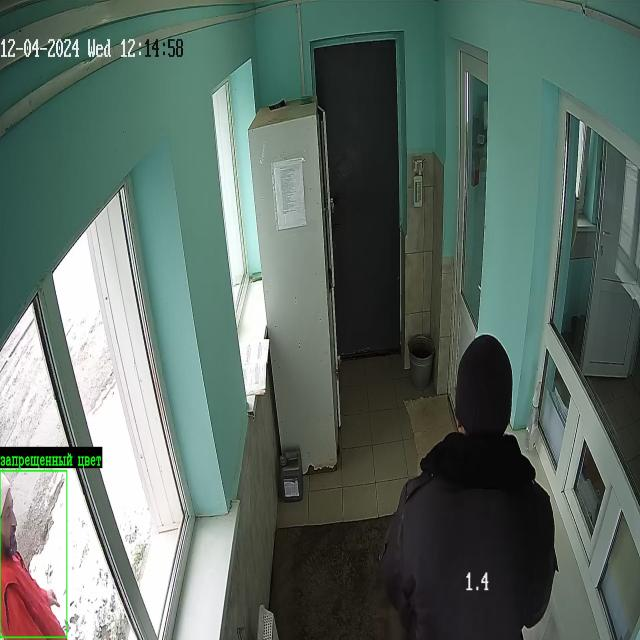Person: (381, 334, 557, 639)
Red uniform: (0, 550, 64, 639)
